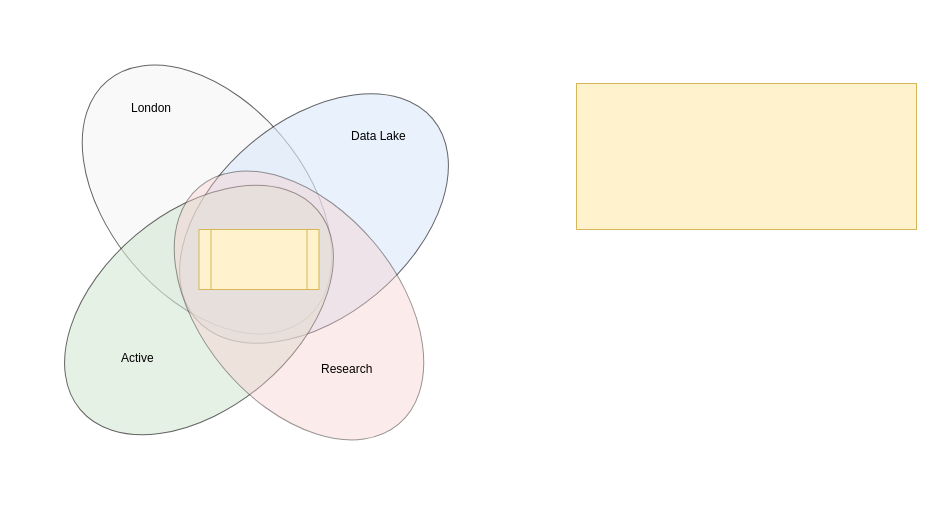
Some shapes in this 935 by 505 pixel diagram are drawn without their labels. Here are the shapes that lost their labels. From the top down, the centre of each, then its label:
At pixel 746 156: "Asset Definition : : zoneMembership=[london, data-lake, research, active]".
At pixel 258 259: "Clinical Trial Asset".
